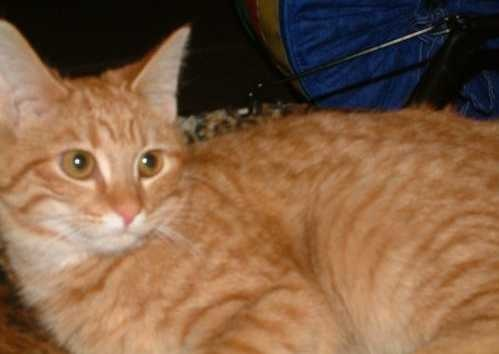Cat: (0, 20, 498, 353)
